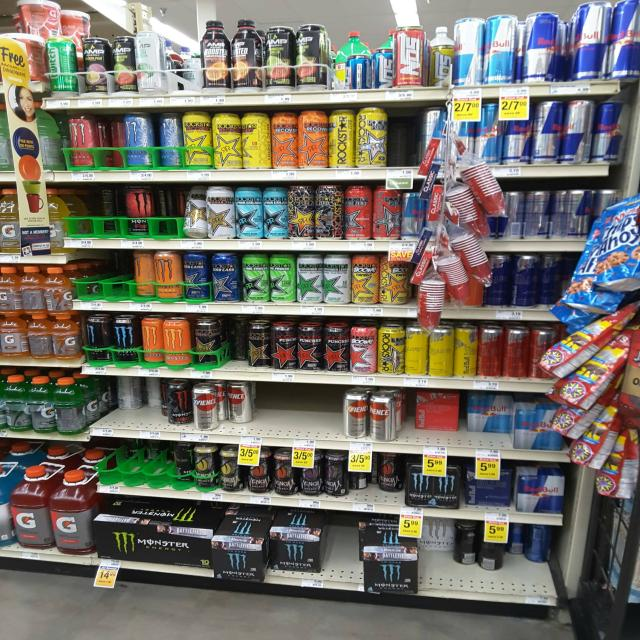void: (156, 5, 196, 110), (100, 440, 168, 488), (288, 381, 330, 454), (322, 8, 346, 105), (99, 246, 132, 313), (253, 384, 284, 454), (76, 185, 97, 250), (76, 251, 98, 313)
